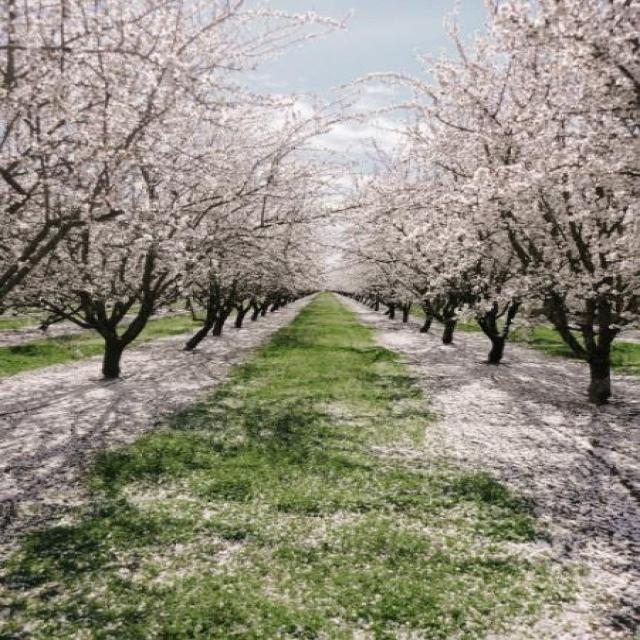row: (0, 293, 640, 640)
